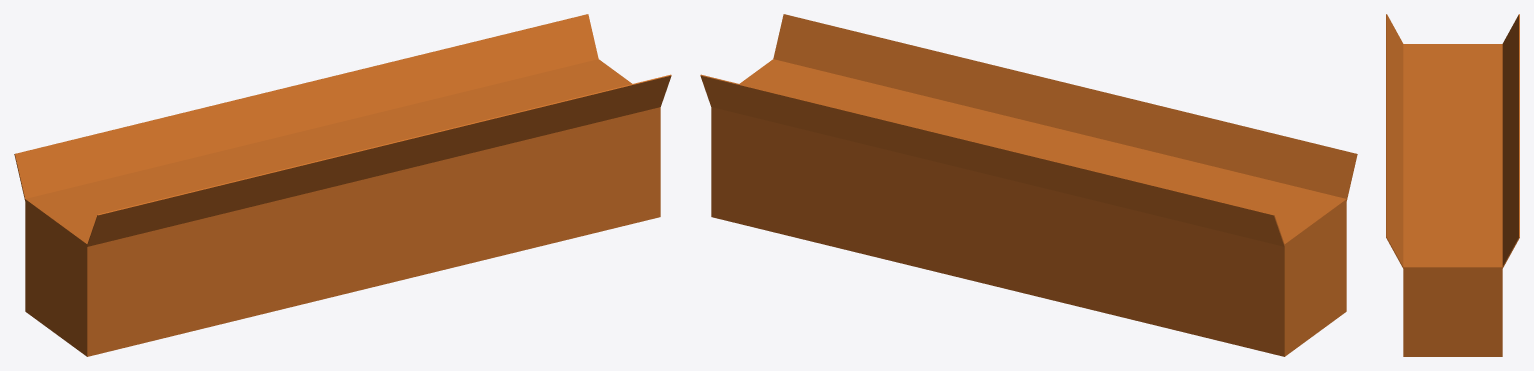
The model's file is uchannel_place_indoor_collision.dae.
3 renders of one model, left to right at view 1: azimuth 30°, elevation 25°; view 2: azimuth 150°, elevation 25°; view 3: azimuth 270°, elevation 25°, orthographic. The views are drawn at different scales.
Visible parts, largest first — view 1: uchannel_place_indoor; view 2: uchannel_place_indoor; view 3: uchannel_place_indoor.
Part boxes in pixels (x1,y1,x2,y2): uchannel_place_indoor: (14,14,671,356); uchannel_place_indoor: (700,14,1357,356); uchannel_place_indoor: (1386,14,1519,356).
Bounding box in the file's own units: 1.6 × 0.4054 × 0.4.
